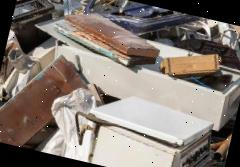electronic: (73, 79, 225, 167), (48, 0, 164, 88), (0, 32, 82, 155)
